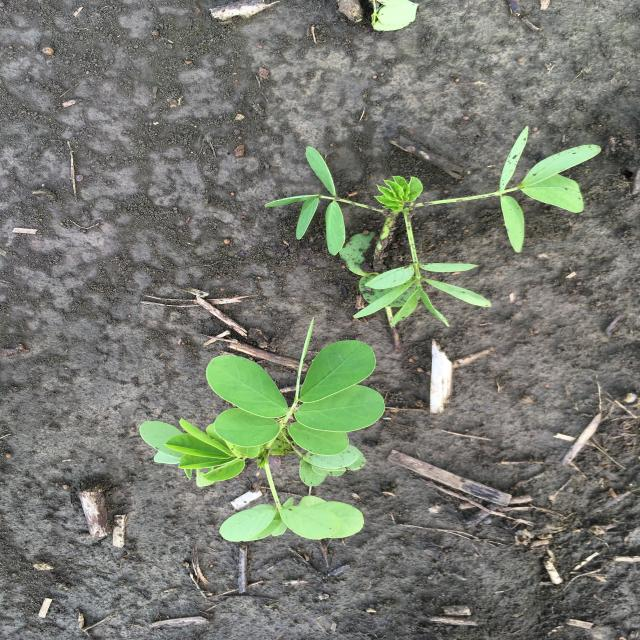Sicklepod: (262, 123, 604, 330), (137, 315, 387, 545)
